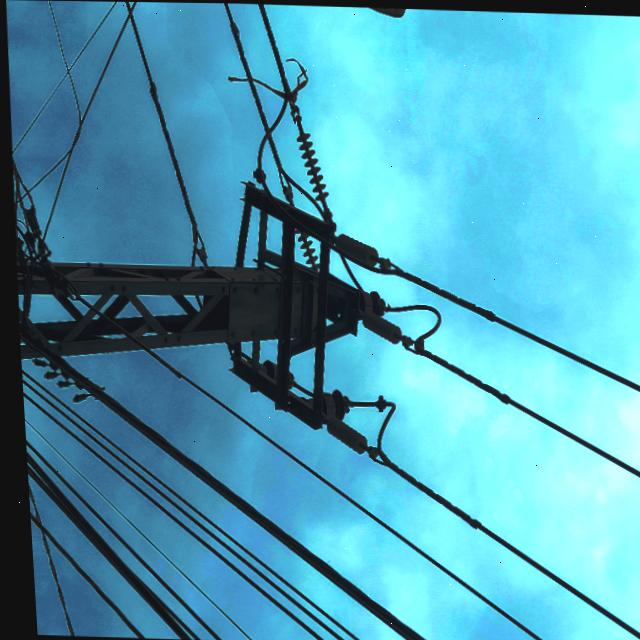obstruction: (226, 56, 307, 124)
poles: (13, 181, 439, 453)
wires: (45, 257, 551, 640), (18, 354, 438, 640), (384, 453, 640, 640), (417, 343, 640, 485), (11, 1, 126, 243), (438, 278, 640, 404), (123, 1, 203, 265), (247, 80, 293, 199), (295, 118, 329, 208), (221, 6, 251, 75), (255, 3, 282, 57)
